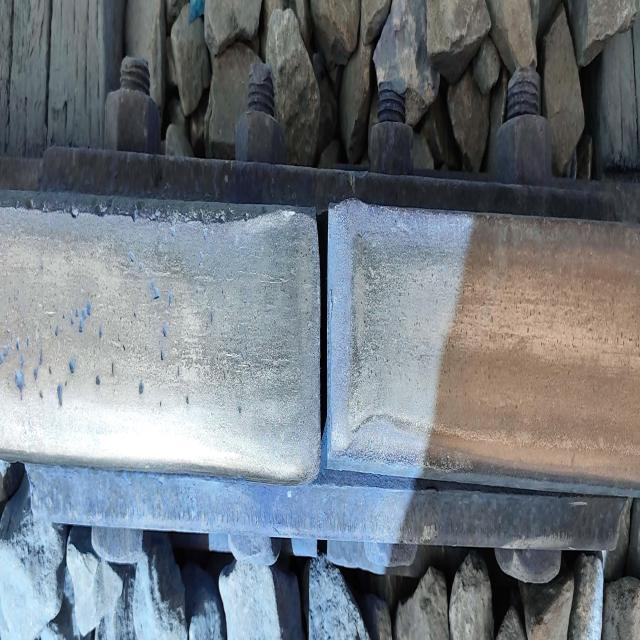head_checks_low: (70, 300, 90, 378), (10, 343, 28, 399), (50, 369, 69, 416)
